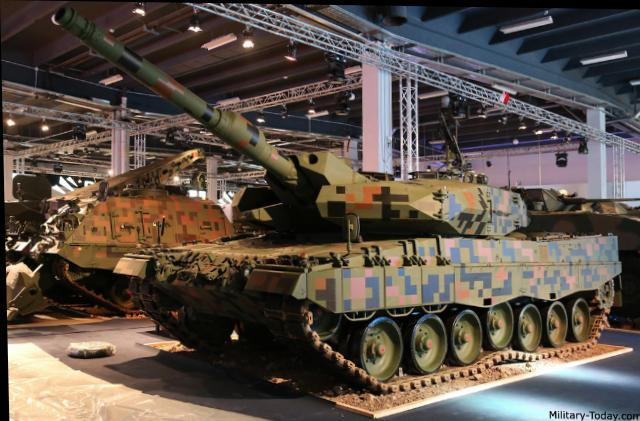tank: (138, 174, 630, 390), (17, 148, 233, 301)
